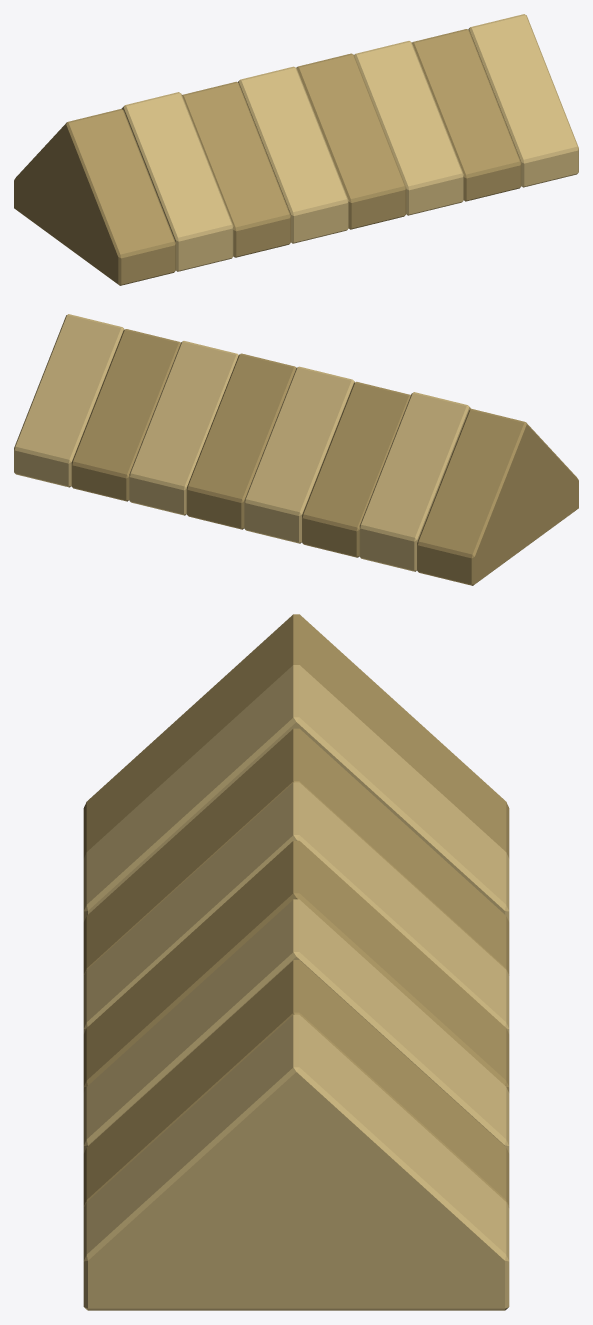
Rendered from SM_Thatch_Ridge_45.fbx.
The picture shows the model from 3 angles, top to bottom: view 1: azimuth 30°, elevation 25°; view 2: azimuth 150°, elevation 25°; view 3: azimuth 270°, elevation 25°; orthographic projection. The views are drawn at different scales.
Parts seen in each view (by area): view 1: SM_Thatch_Ridge_45; view 2: SM_Thatch_Ridge_45; view 3: SM_Thatch_Ridge_45.
Part boxes in pixels (bbox=[...]): SM_Thatch_Ridge_45: bbox=[14, 14, 578, 285]; SM_Thatch_Ridge_45: bbox=[14, 314, 578, 585]; SM_Thatch_Ridge_45: bbox=[83, 614, 509, 1310].
Bounding box in the file's own units: 2 × 0.5311 × 0.8.
